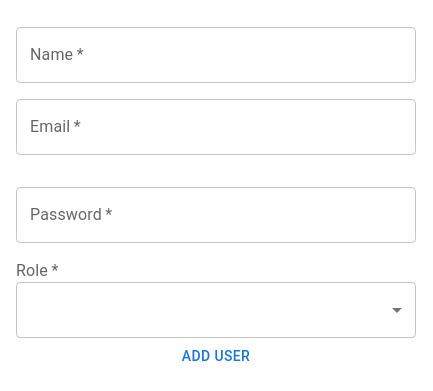
Test case: AddUserFormLeicht › should show error if email already exists
Type "john@example.com" into the field labelled "Email *" at (216, 127), box [16,99,416,155]
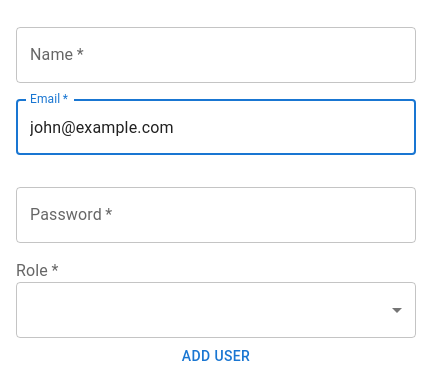
Type "Password123!" into the field labelled "Password *" at (216, 215), box [16,187,416,243]
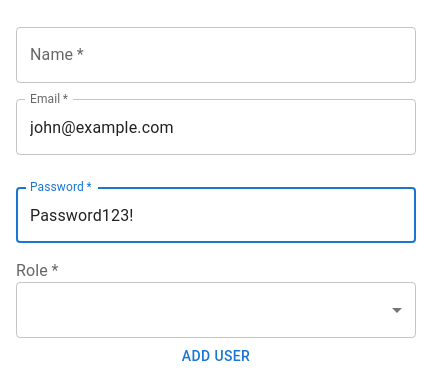
Click the button "Add User" at (216, 357), box [16,338,416,375]
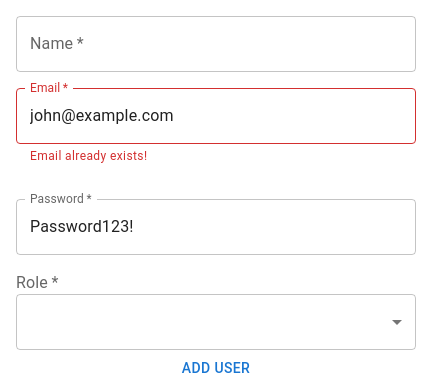
Now the text "Email already exists!" is shown, box [30,149,147,163]
